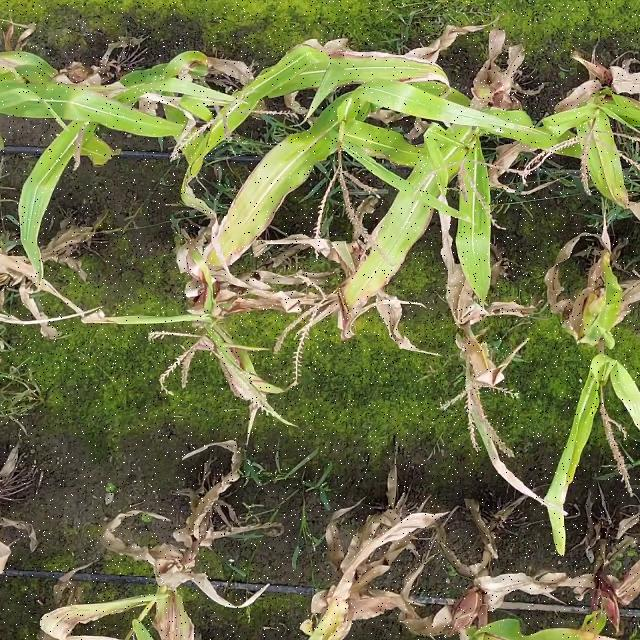northern-leaf-blight: (199, 134, 320, 281), (336, 200, 419, 310), (274, 42, 444, 92)
